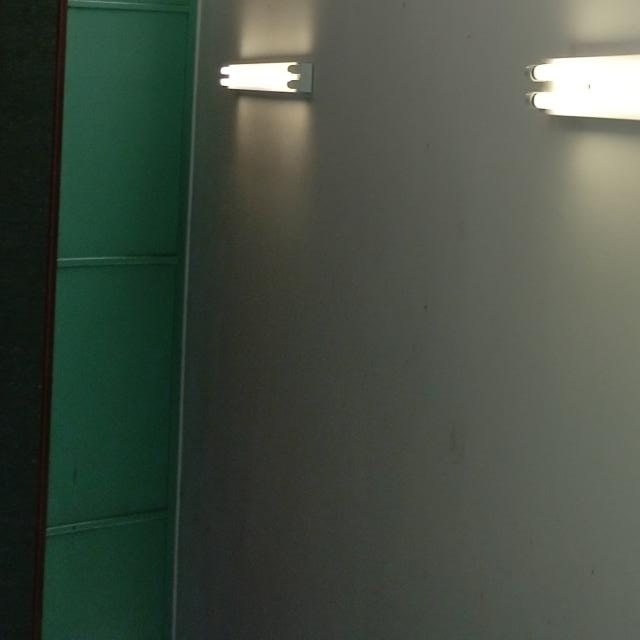fluorescent tube: (505, 0, 640, 191), (209, 41, 337, 123)
